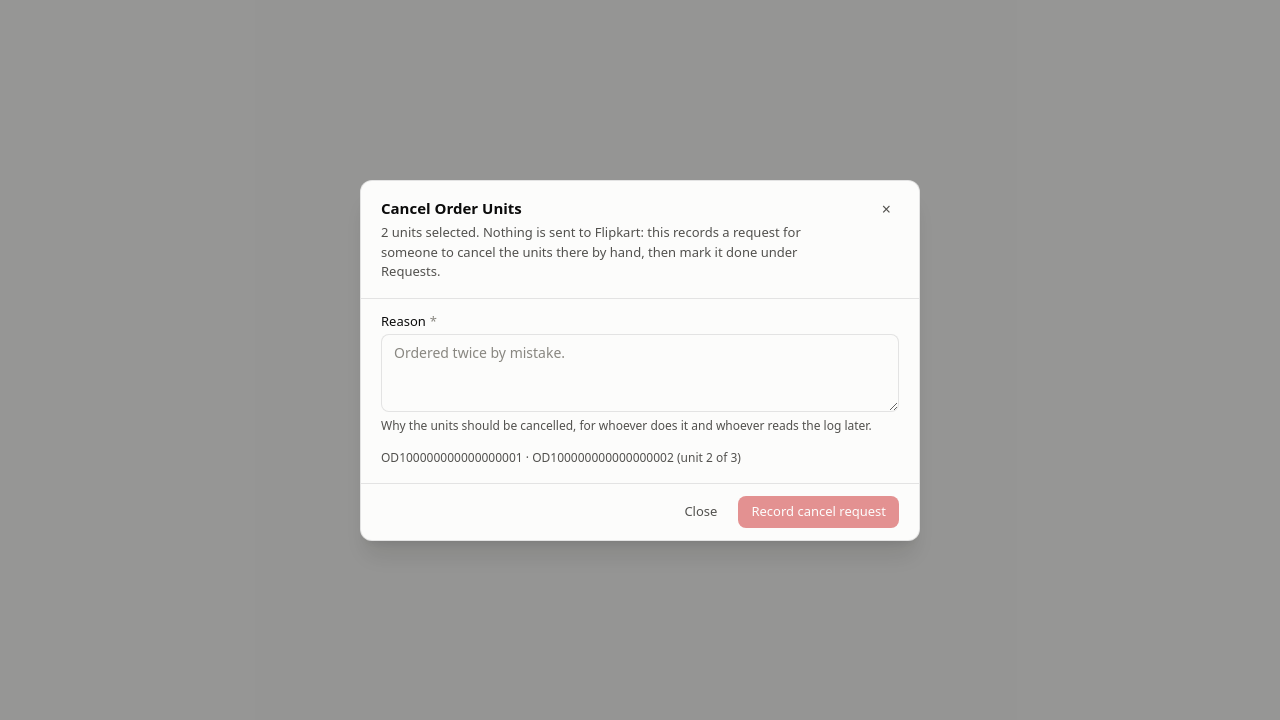
Test: UnitRequestDialog › keeps the dialog and the reason when the server refuses
This screenshot has width=1280, height=720.
Type "x" into the text box labelled "Reason*" at (640, 372), box [381,334,899,412]
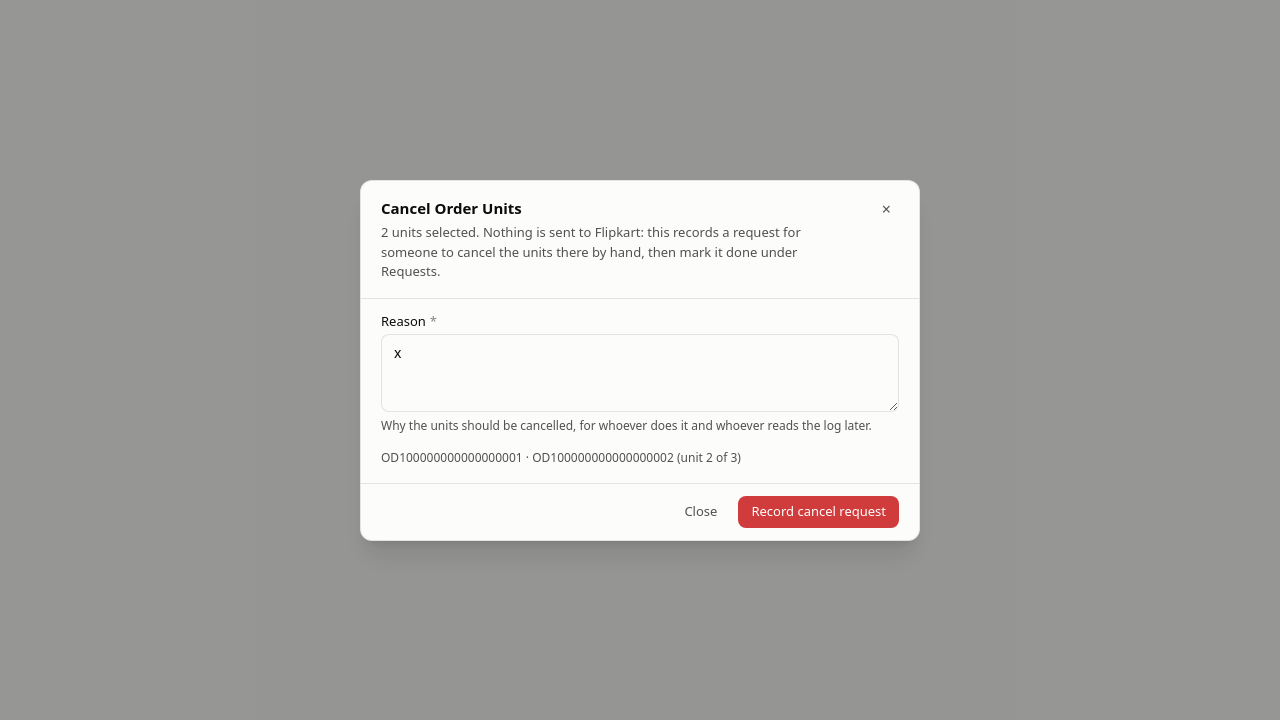
Click the button "Record cancel request" at (819, 512), box [738,496,899,528]
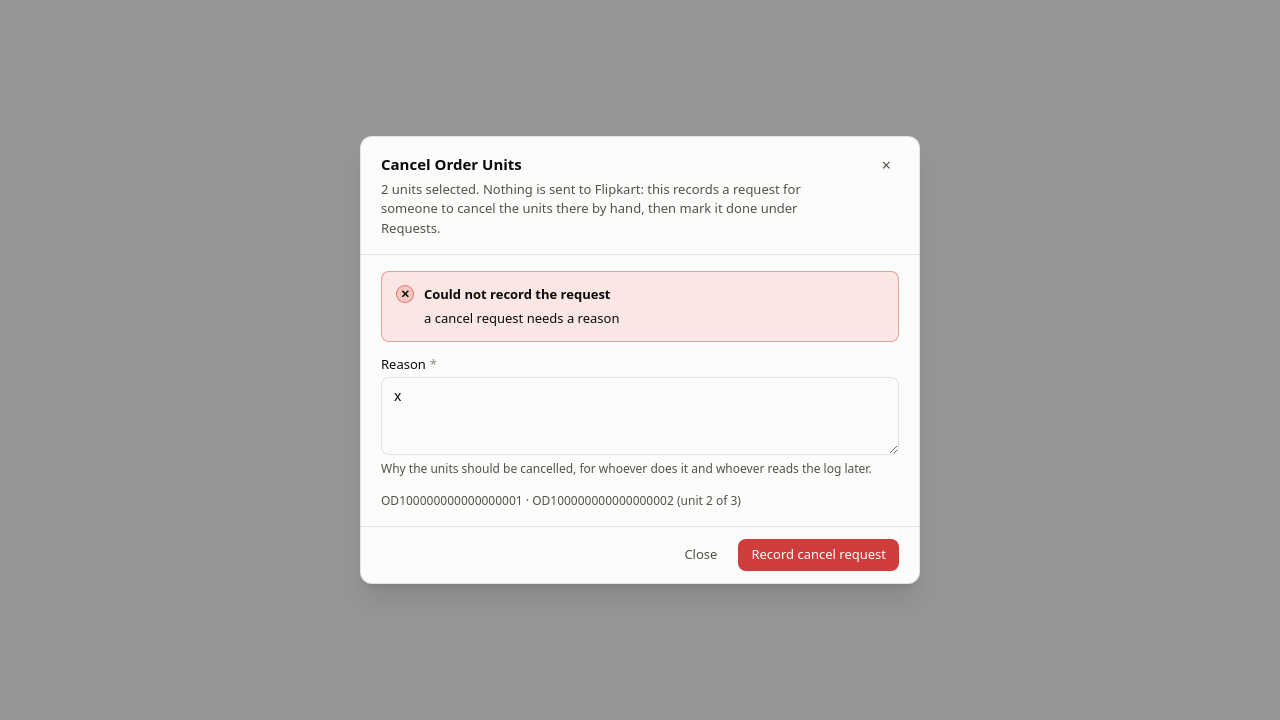
Check: the text "a cancel request needs a reason" is shown, box [424,308,620,329]
